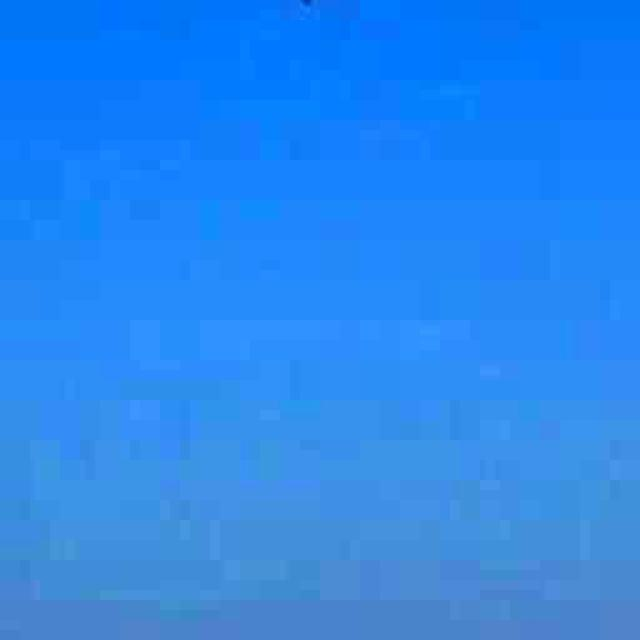bird: (262, 0, 360, 36)
